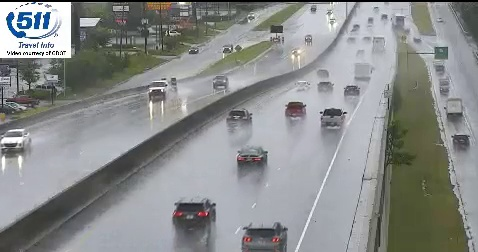car: (241, 222, 288, 252), (173, 198, 215, 227), (237, 147, 268, 167), (226, 109, 251, 128), (321, 108, 345, 127), (284, 102, 306, 118)
